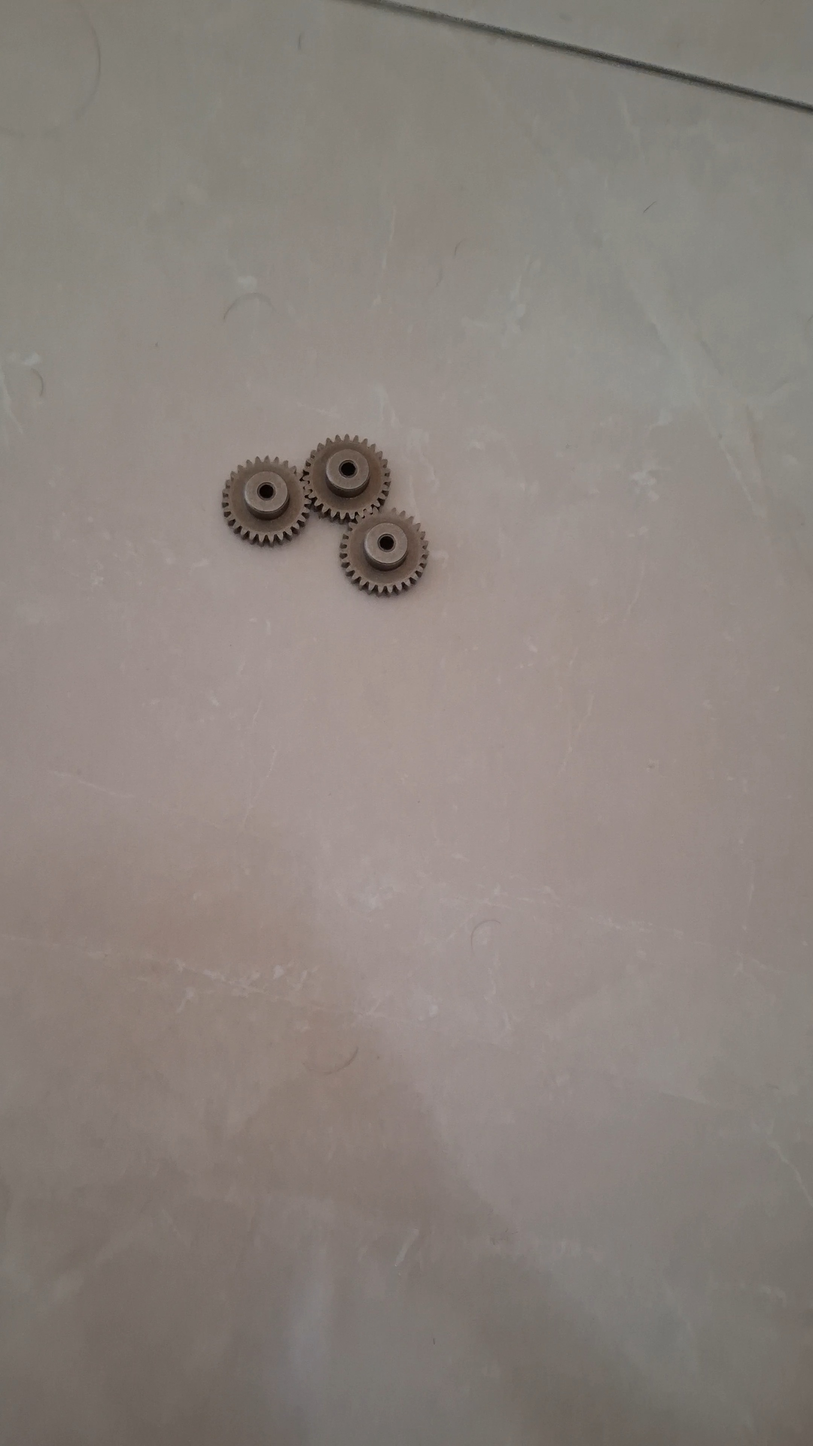spur gear: (222, 457, 309, 544), (303, 435, 390, 522), (340, 510, 428, 593)
